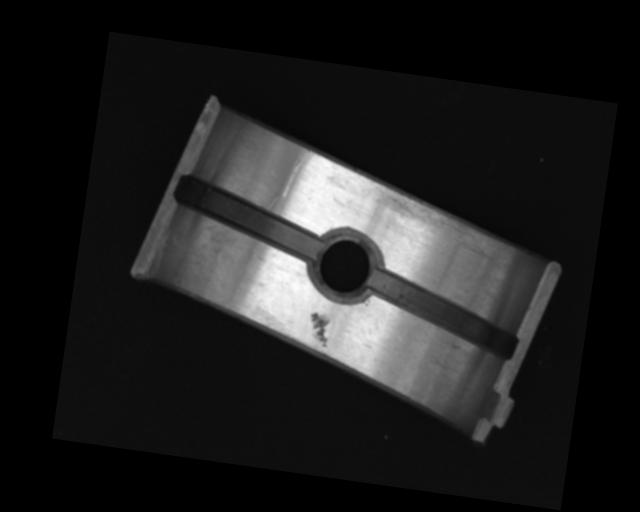bruise: (306, 310, 333, 349)
gap: (362, 266, 522, 361), (168, 175, 327, 260)
hole: (303, 227, 385, 305)
nick: (283, 146, 315, 200)
scratch: (315, 163, 516, 266)
